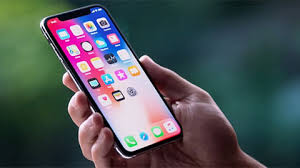iphone: (37, 3, 183, 159)
iphone10: (37, 3, 183, 159)
